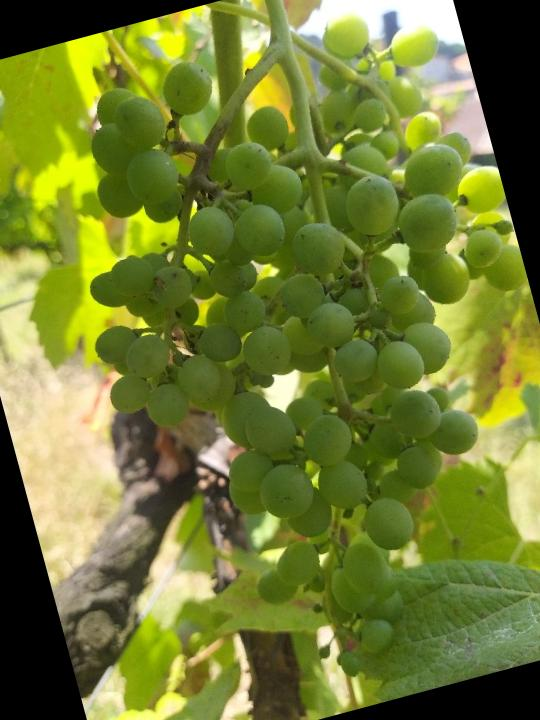grape: (27, 0, 540, 720)
